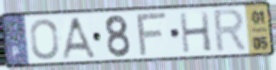8: (103, 13, 133, 59)
A: (59, 15, 98, 61)
F: (135, 11, 169, 58)
H: (177, 10, 214, 55)
O: (28, 18, 61, 62)
R: (212, 7, 250, 56)
